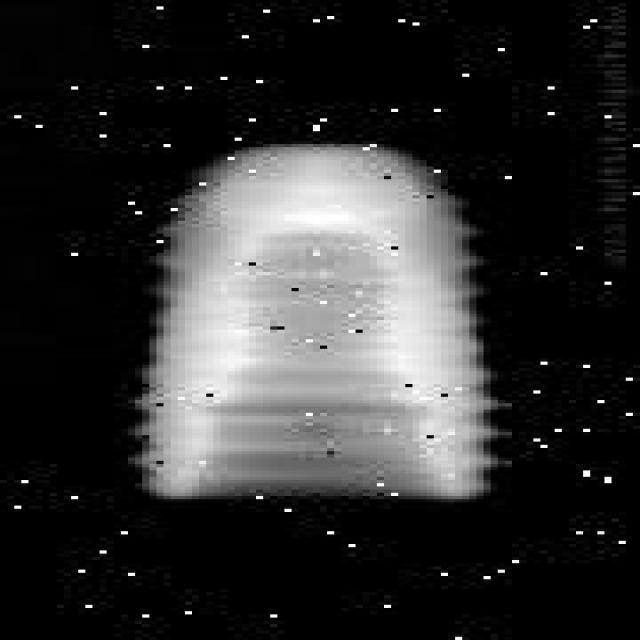Titan Implant Implant: (120, 136, 509, 504)
